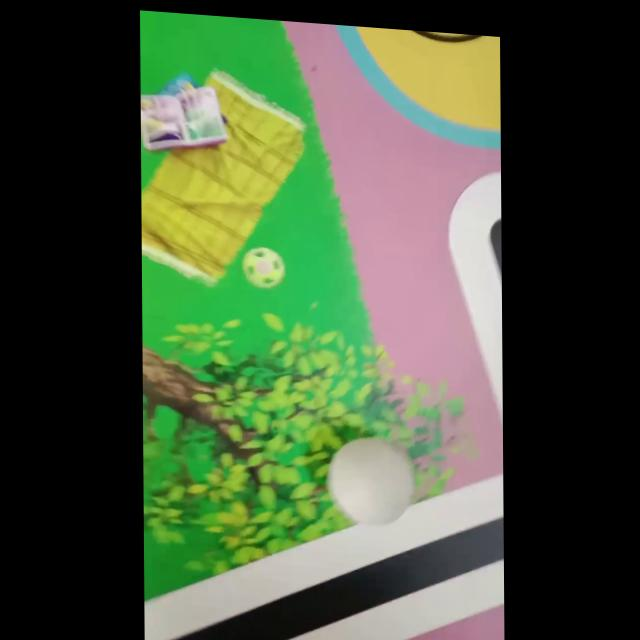white ball: (325, 432, 416, 529)
